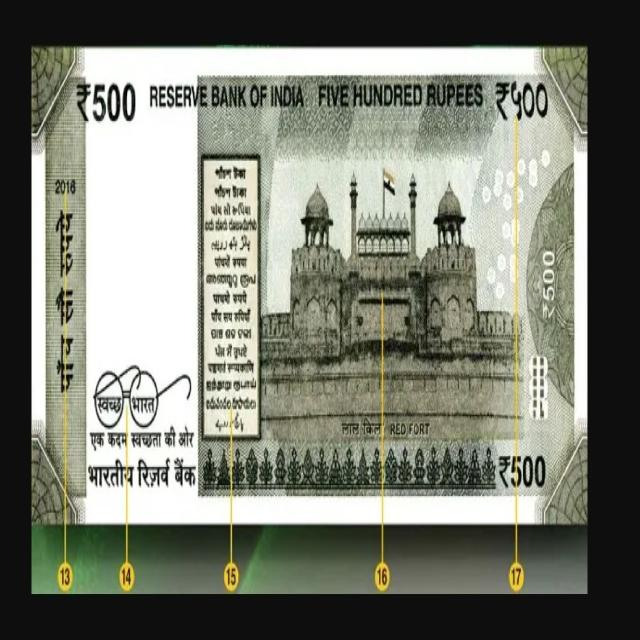500IndianRupees: (31, 46, 586, 528)
